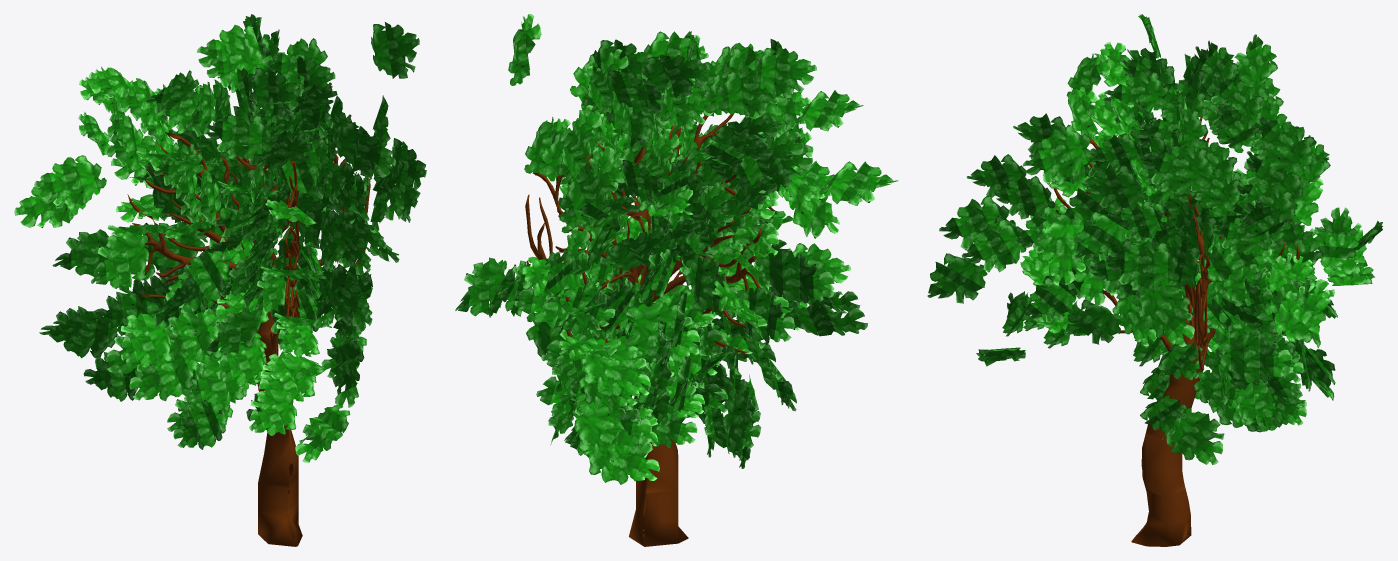
The model's file is tree6fbx.fbx.
The picture shows the model from 3 angles, left to right: view 1: azimuth 30°, elevation 25°; view 2: azimuth 150°, elevation 25°; view 3: azimuth 270°, elevation 25°; orthographic projection. The views are drawn at different scales.
Visible parts, largest first — view 1: c090c787-1d18-485c-aed2-695b9deaaf12|d2bc2ccb-dd17-4b76-b26a (×83), c090c787-1d18-485c-aed2-695b9deaaf12; view 2: c090c787-1d18-485c-aed2-695b9deaaf12|d2bc2ccb-dd17-4b76-b26a (×82), c090c787-1d18-485c-aed2-695b9deaaf12; view 3: c090c787-1d18-485c-aed2-695b9deaaf12|d2bc2ccb-dd17-4b76-b26a (×78), c090c787-1d18-485c-aed2-695b9deaaf12.
Part boxes in pixels (left/top/right/bottom): c090c787-1d18-485c-aed2-695b9deaaf12|d2bc2ccb-dd17-4b76-b26a (×83): left=14, top=22, right=426, bottom=462; c090c787-1d18-485c-aed2-695b9deaaf12: left=127, top=132, right=370, bottom=546; c090c787-1d18-485c-aed2-695b9deaaf12|d2bc2ccb-dd17-4b76-b26a (×82): left=455, top=14, right=898, bottom=484; c090c787-1d18-485c-aed2-695b9deaaf12: left=525, top=114, right=777, bottom=546; c090c787-1d18-485c-aed2-695b9deaaf12|d2bc2ccb-dd17-4b76-b26a (×78): left=927, top=34, right=1374, bottom=464; c090c787-1d18-485c-aed2-695b9deaaf12: left=1052, top=116, right=1300, bottom=546.
Bounding box in the file's own units: 78.24 × 111 × 97.
2 materials, 2 textured.
